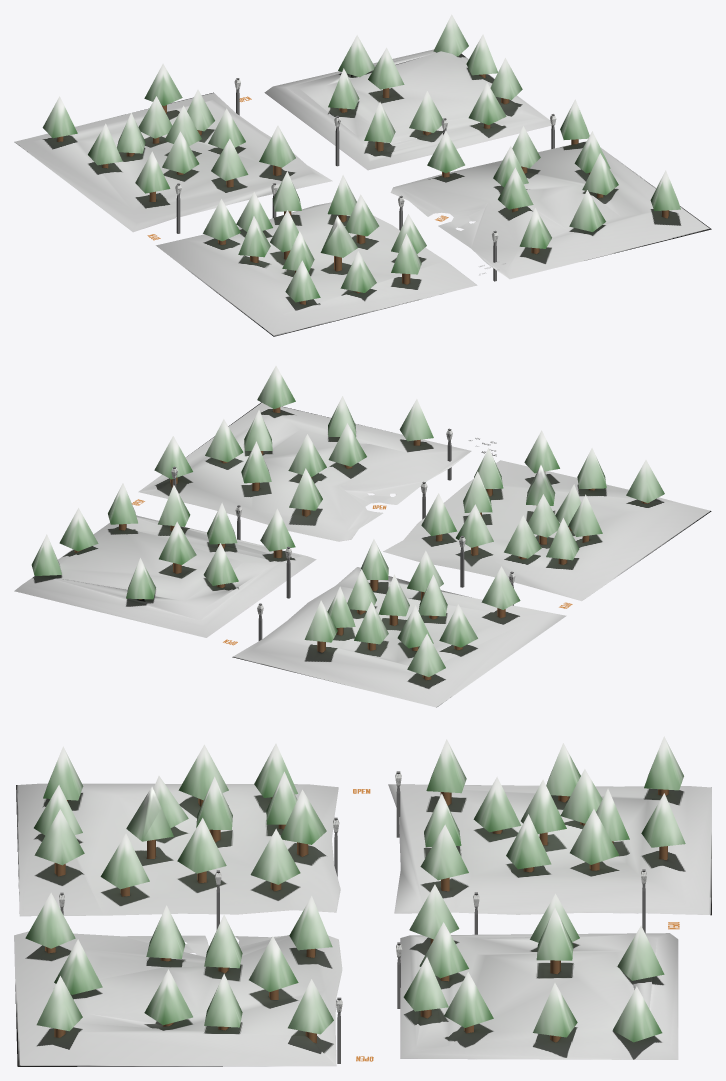
Rendered from pol.glb.
3 views of the same model, one above another, from view 1: azimuth 30°, elevation 25°; view 2: azimuth 150°, elevation 25°; view 3: azimuth 270°, elevation 25° (orthographic). The views are drawn at different scales.
Parts seen in each view (by area): view 1: сугроб6, сугроб5, сугроб4, сугроб3, Конус.021, Конус.016, Конус.026, Конус.012, Конус.010, Конус.036, Конус.017, Конус.031 (+36 smaller); view 2: сугроб6, сугроб5, сугроб4, сугроб3, Конус.004, Конус.028, Конус.023, Конус.029, Конус.032, Конус.027, Конус.044, Конус.020 (+35 smaller); view 3: сугроб6, сугроб4, сугроб5, сугроб3, Конус.019, Конус.024, Конус.025, Конус.034, Конус.005, Конус.006, Конус.008, Конус.040 (+36 smaller).
Part boxes in pixels (x1,y1,x2,y2): сугроб6: [390, 141, 711, 279]; сугроб5: [156, 202, 477, 336]; сугроб4: [14, 92, 332, 232]; сугроб3: [264, 49, 551, 170]; Конус.021: [427, 130, 464, 172]; Конус.016: [468, 82, 506, 124]; Конус.026: [203, 199, 240, 241]; Конус.012: [162, 131, 199, 173]; Конус.010: [320, 216, 357, 257]; Конус.036: [211, 139, 248, 180]; Конус.017: [338, 35, 374, 77]; Конус.031: [259, 125, 295, 167]; сугроб6: [138, 402, 471, 541]; сугроб5: [383, 460, 711, 600]; сугроб4: [232, 567, 566, 707]; сугроб3: [14, 515, 316, 637]; Конус.004: [59, 508, 98, 551]; Конус.028: [481, 566, 520, 609]; Конус.023: [257, 366, 295, 408]; Конус.029: [407, 633, 445, 676]; Конус.032: [439, 604, 477, 647]; Конус.027: [626, 460, 664, 502]; Конус.044: [205, 419, 243, 462]; Конус.020: [328, 423, 366, 466]; сугроб6: [14, 931, 342, 1066]; сугроб4: [388, 784, 711, 915]; сугроб5: [16, 783, 340, 916]; сугроб3: [400, 933, 678, 1059]; Конус.019: [25, 892, 75, 948]; Конус.024: [34, 809, 84, 865]; Конус.025: [250, 828, 300, 884]; Конус.034: [570, 809, 619, 864]; Конус.005: [612, 986, 662, 1042]; Конус.006: [444, 972, 493, 1027]; Конус.008: [249, 936, 298, 991]; Конус.040: [177, 818, 226, 873].
Size of what is drawn, in the model's own units: 96.24 by 16.19 by 101.
7 materials, 3 textured.
